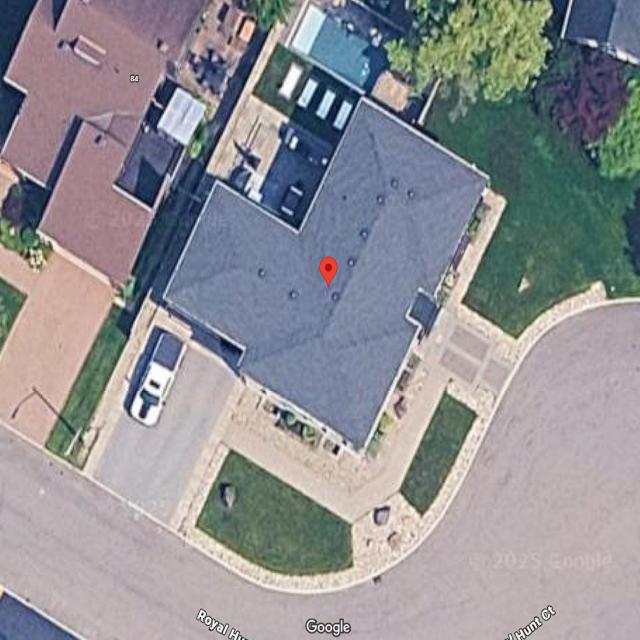Building: (165, 101, 487, 455)
boundaryof property: (70, 3, 614, 597)
obstacle: (128, 327, 185, 427)
walkways: (222, 312, 516, 525), (91, 322, 238, 529)
